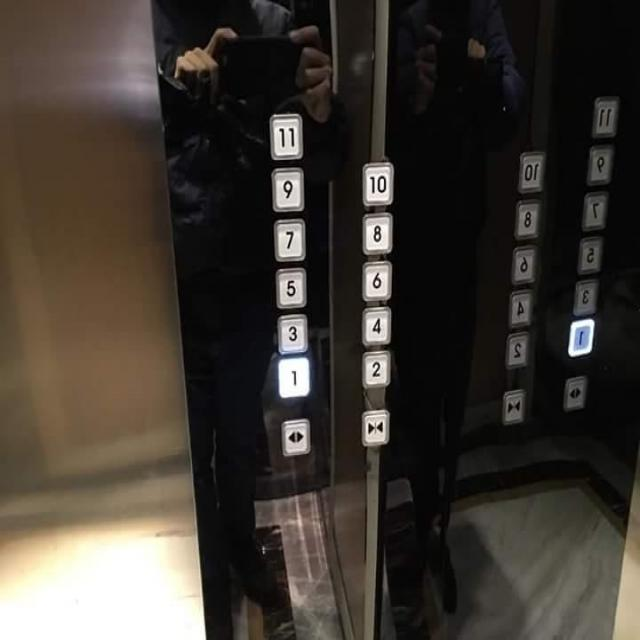1: (278, 357, 310, 396)
10: (362, 161, 393, 204)
11: (268, 111, 303, 159)
2: (361, 350, 389, 386)
3: (276, 314, 306, 353)
4: (362, 304, 391, 344)
5: (274, 266, 306, 308)
6: (362, 258, 391, 300)
7: (274, 218, 304, 260)
8: (362, 210, 392, 252), (513, 198, 539, 238)
9: (270, 167, 304, 211)
close: (361, 409, 388, 446), (501, 386, 524, 424)
open: (280, 417, 309, 454), (562, 374, 586, 409)
unknown: (591, 94, 618, 138), (517, 149, 545, 191), (588, 144, 614, 183), (581, 191, 607, 230), (567, 318, 593, 356), (511, 244, 536, 283), (577, 234, 601, 274), (508, 286, 530, 327), (505, 331, 530, 367), (572, 279, 596, 314)
